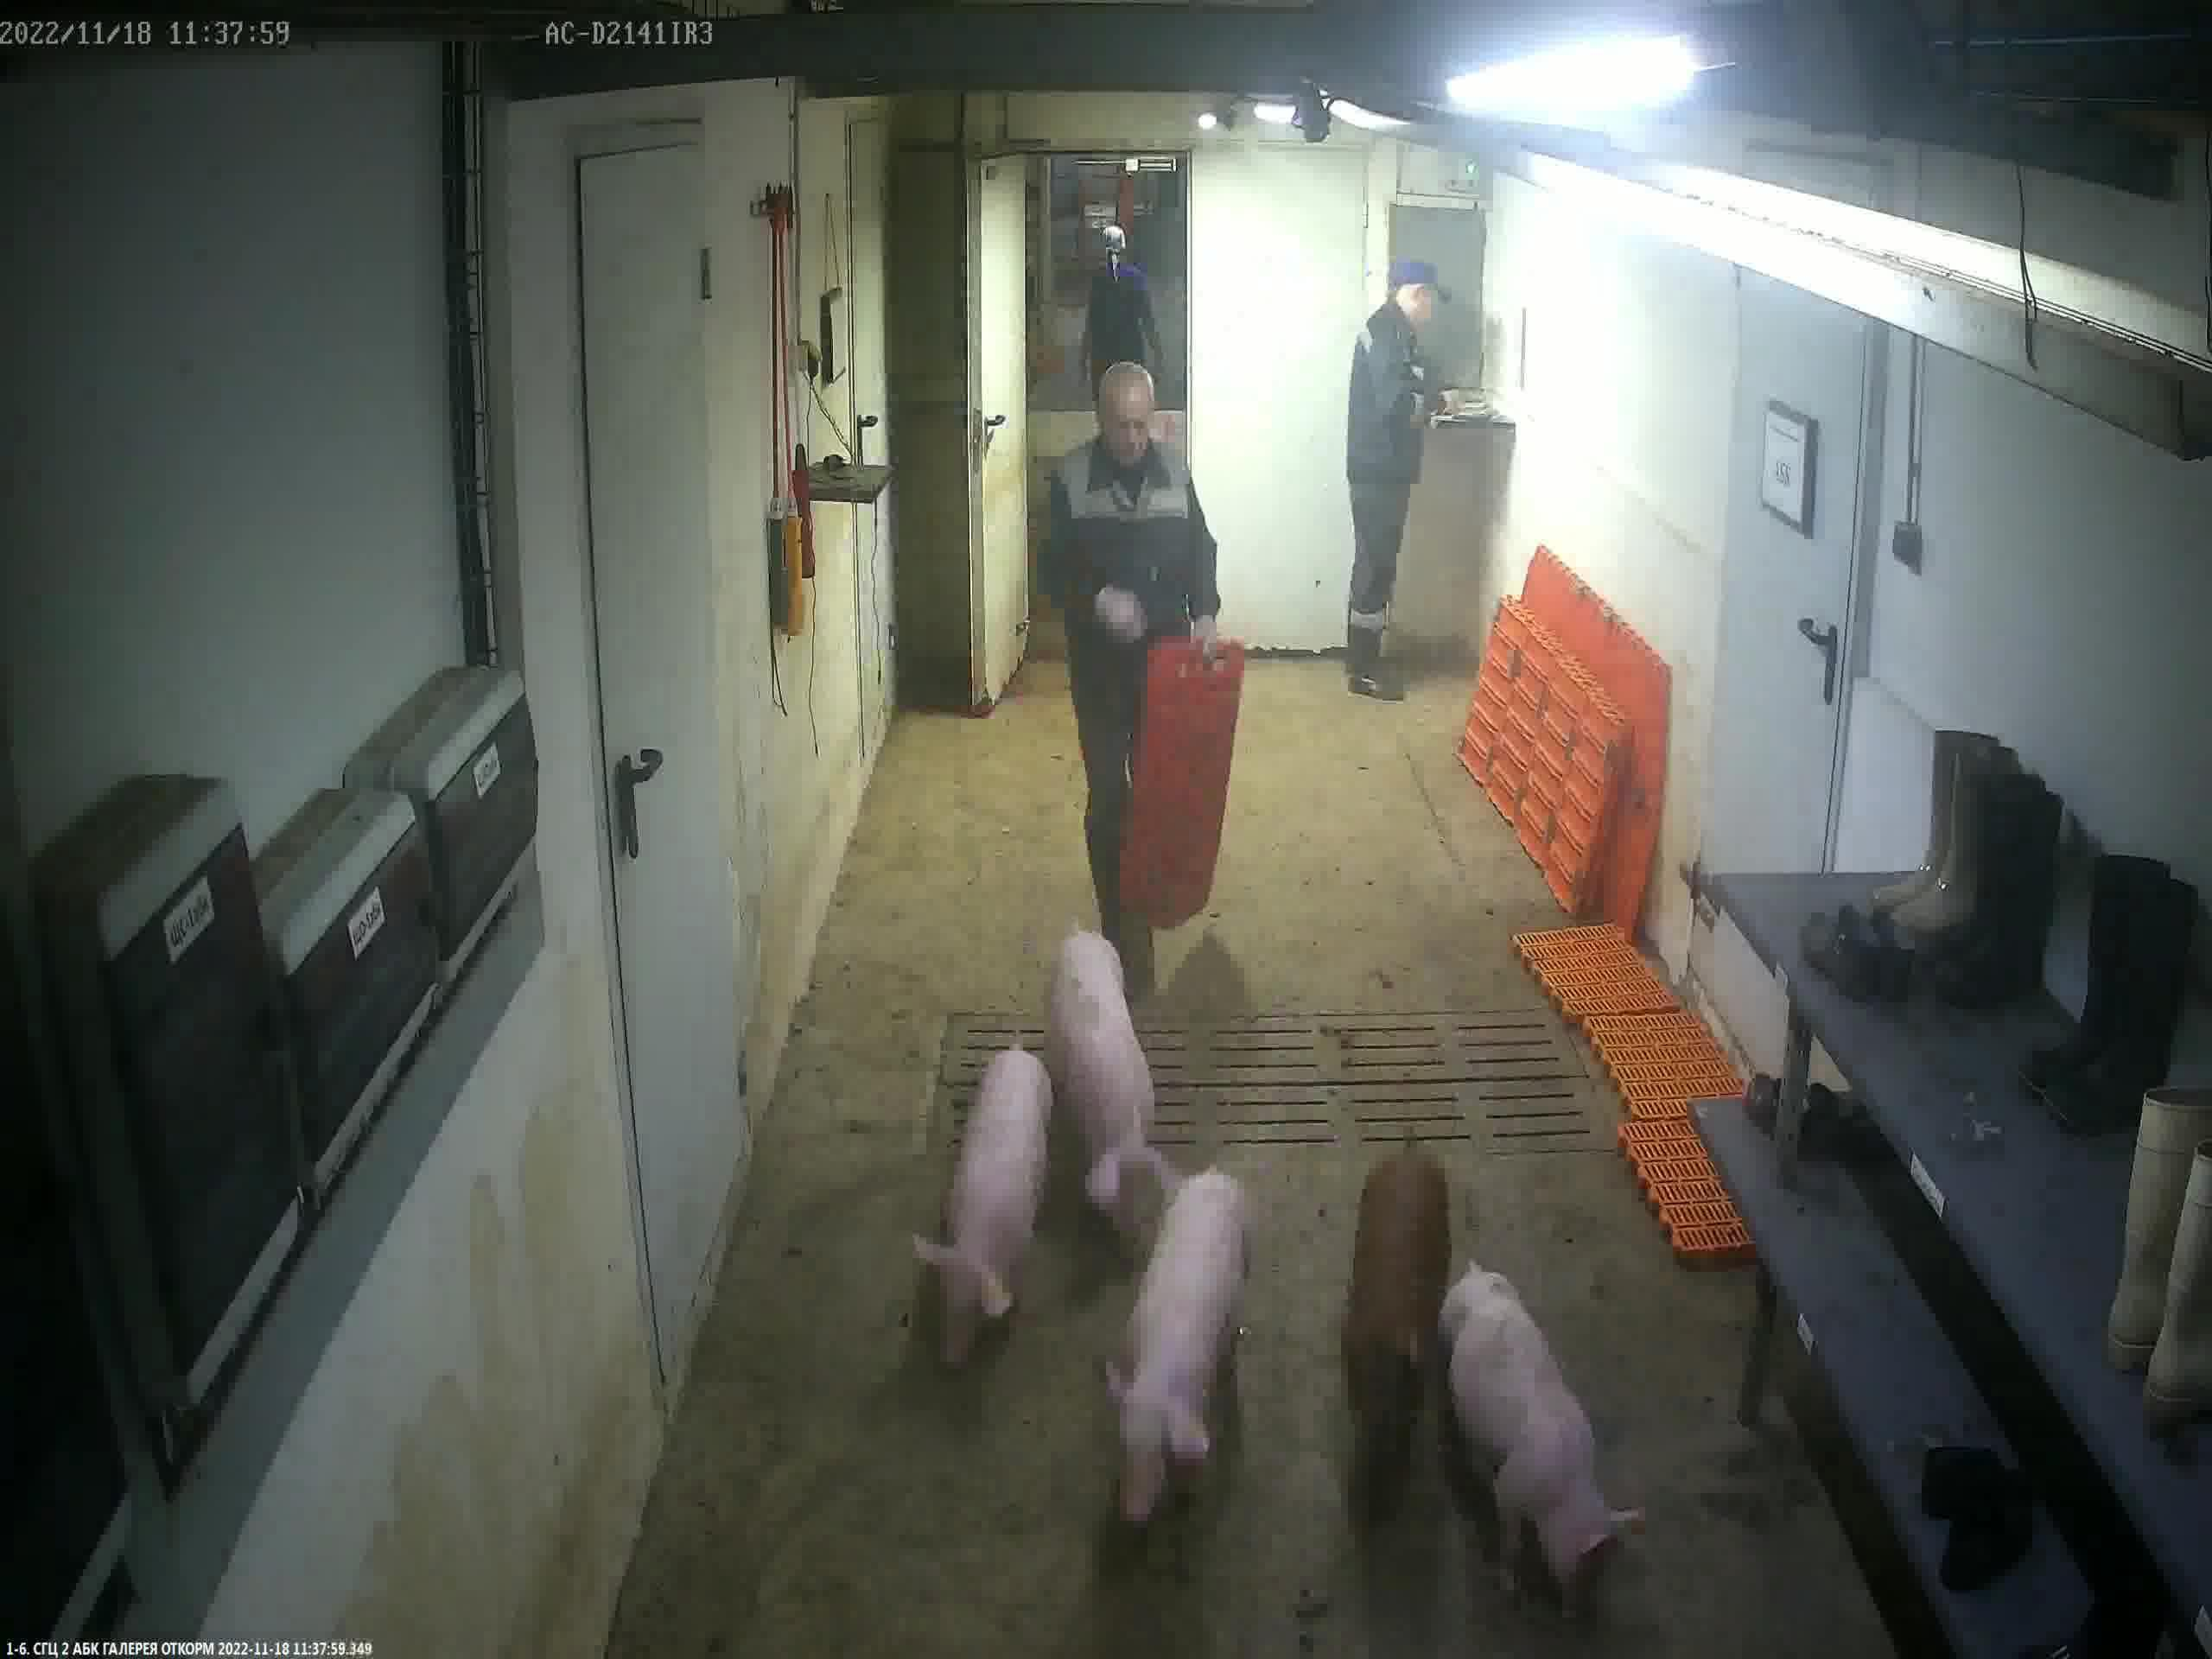Pigs: (1439, 1270, 1630, 1610), (1116, 1164, 1258, 1546), (923, 1042, 1059, 1366), (1043, 932, 1165, 1272), (1348, 1154, 1451, 1521)
